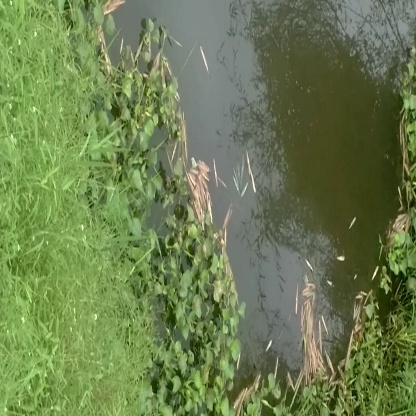leaf: (297, 272, 341, 375)
